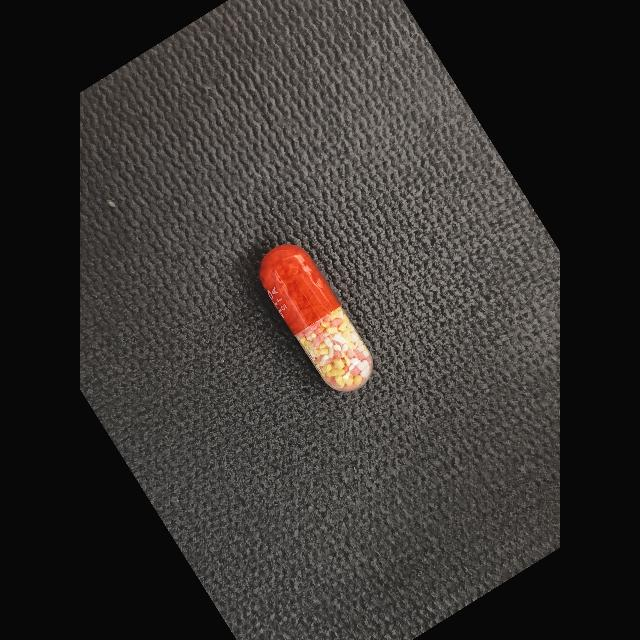Intact Capsule: (260, 244, 373, 392)
